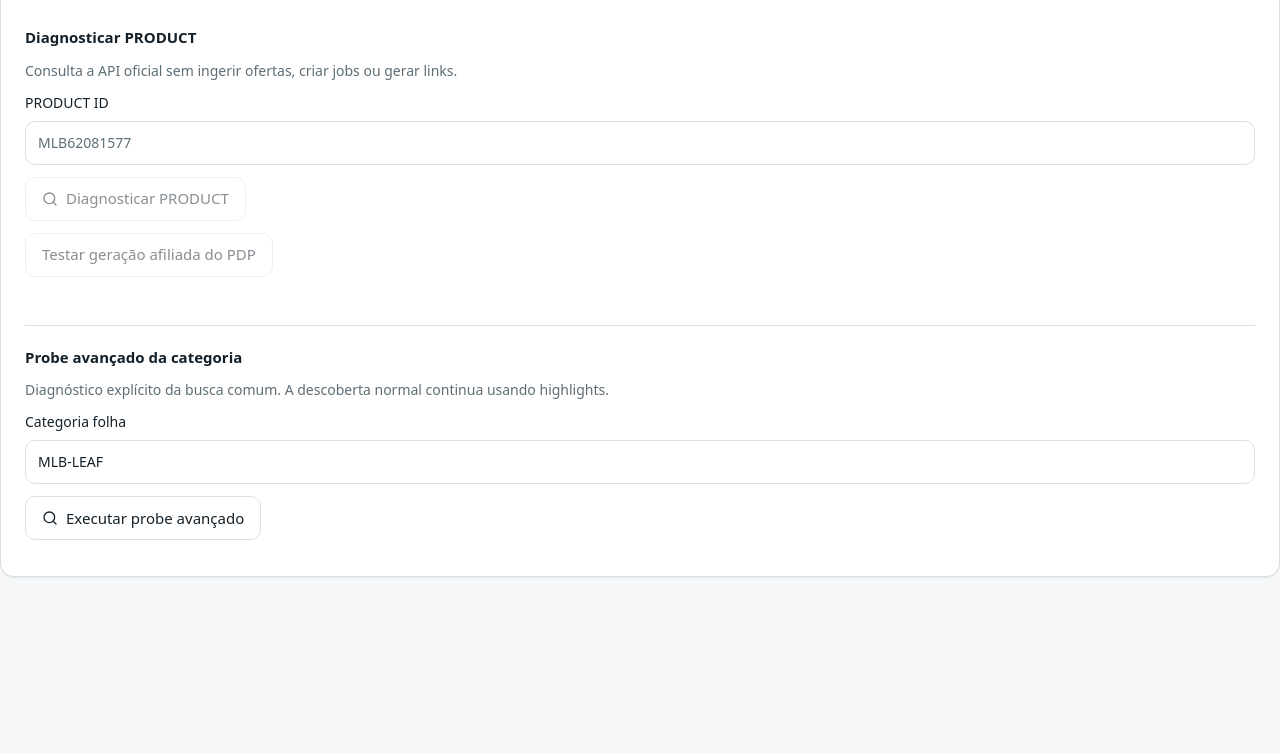
Test: DiagnosticsPanel › executes the category probe and keeps the initial deep-link id
Expected: the field labelled "Categoria folha" holds "MLB-LEAF", [25, 440, 1255, 484]
Step 1. Click the button "Executar probe avançado" → (143, 518), box [25, 496, 261, 540]
(page scrolled)
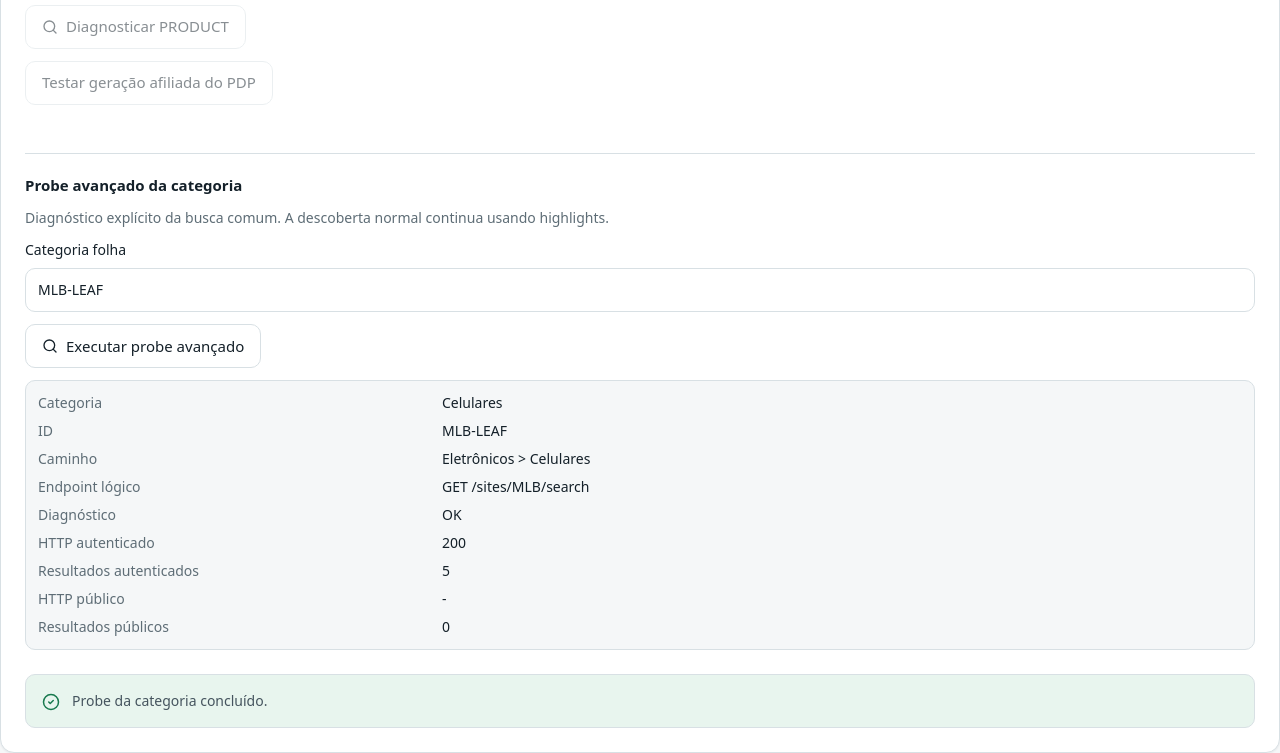
Expected: the element named "Resultado do probe da categoria" shows "Eletrônicos > Celulares", [442, 449, 590, 468]
